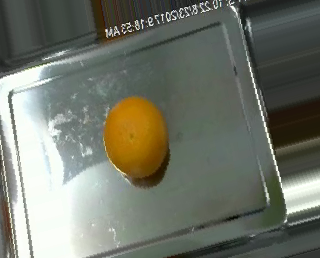Orange: (103, 95, 169, 178)
